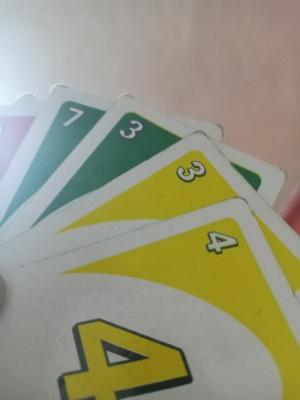num_3: (154, 158, 232, 199), (119, 109, 152, 155)
num_4: (200, 217, 241, 289)
num_7: (58, 99, 96, 139)
yellow: (37, 299, 211, 400)
